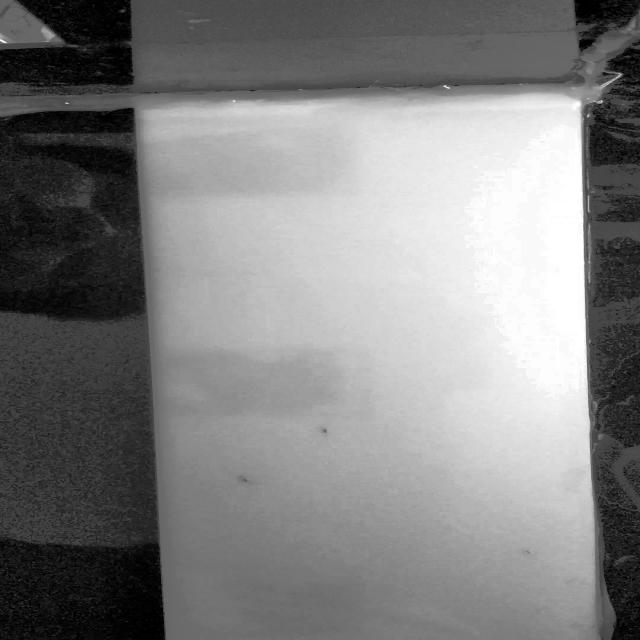shrimp: (300, 417, 350, 442), (222, 474, 268, 494)
